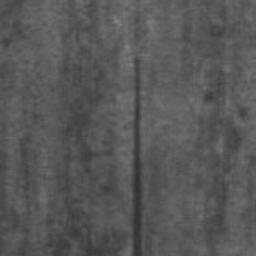Scratches: (130, 57, 143, 256)
